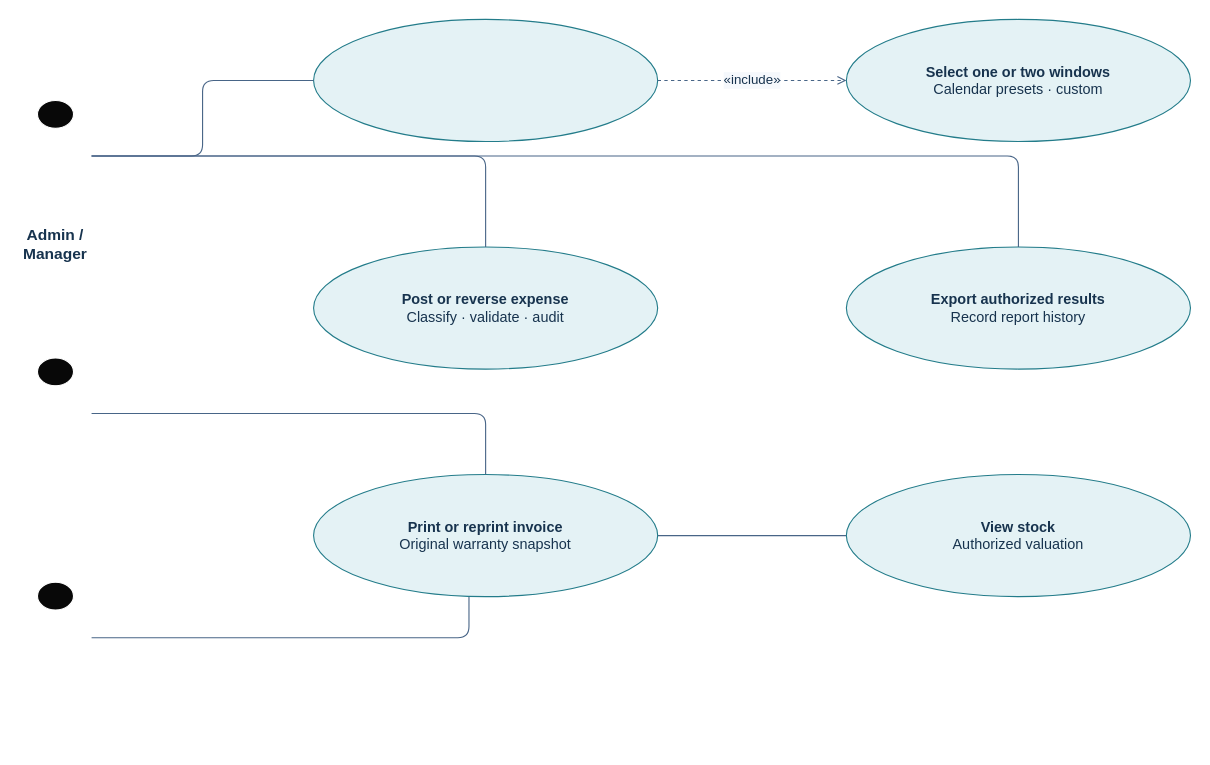
Some shapes in this 1210 by 765 pixel diagram are drawn without their labels. The shapes that lost their labels are listed below. From the top down, each one's centre as x and y in pixels, then its label:
At pixel 485 80: "Run or compare reports Operations · P&L · losses".
At pixel 55 413: "Sales Staff".
At pixel 55 637: "Inventory Staff".
